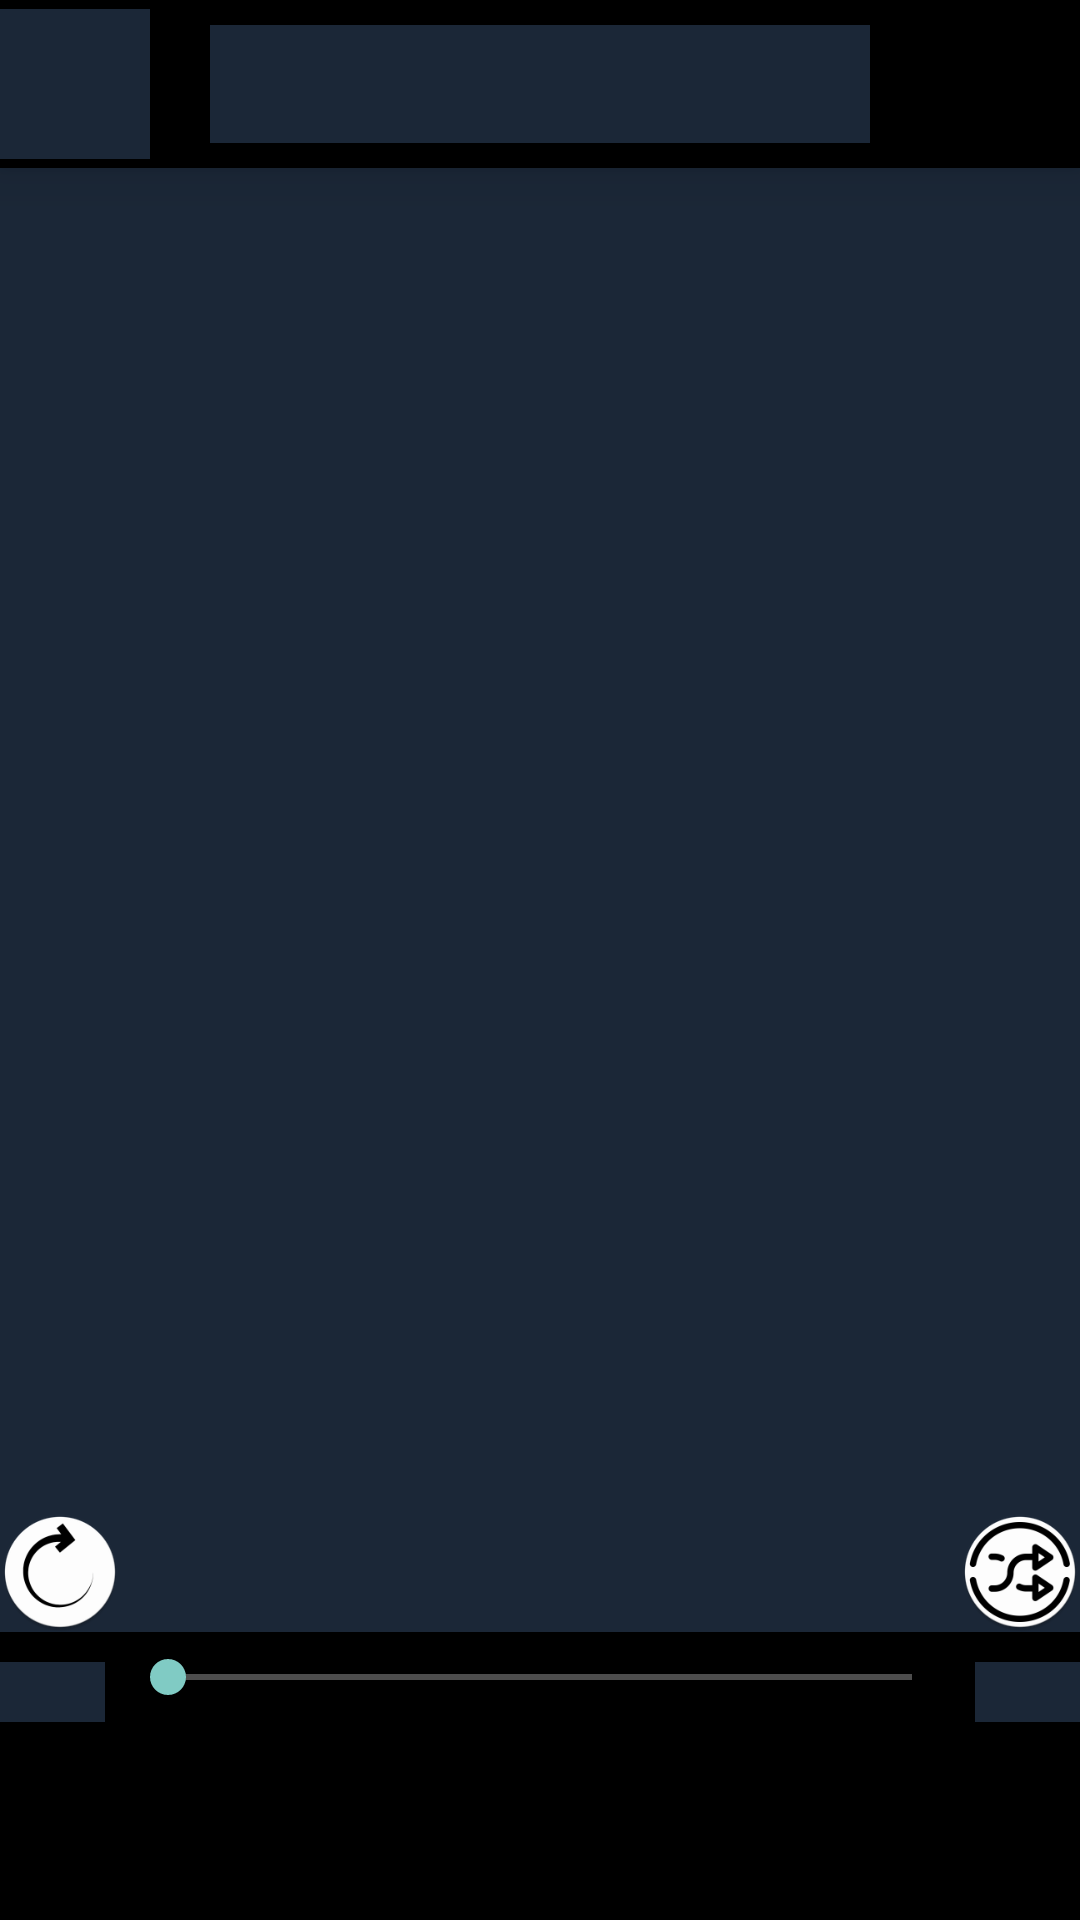

Locate icon controls on the screen. Image size 1080×1920, boxes as (x1, y1, x2, y2).
repeat once: (5, 1516, 115, 1627)
shuffle: (965, 1516, 1075, 1627)
